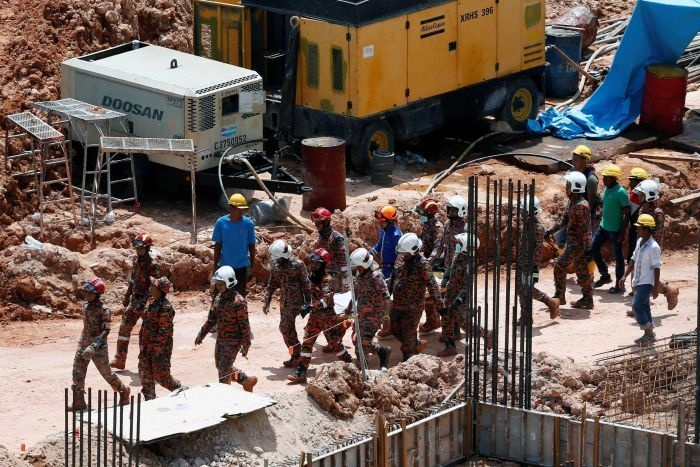red: (83, 279, 106, 303), (308, 249, 329, 274), (417, 198, 438, 221), (312, 207, 332, 231), (150, 276, 169, 298), (133, 235, 152, 256)
white: (398, 232, 424, 257), (454, 233, 480, 257), (214, 265, 235, 293), (444, 195, 467, 220), (565, 171, 586, 197), (350, 249, 372, 273), (270, 239, 291, 264), (637, 179, 658, 204), (518, 196, 540, 219)
yellow: (635, 213, 656, 237), (376, 206, 396, 229), (572, 145, 590, 169), (601, 164, 620, 186), (229, 193, 246, 216), (628, 168, 646, 187)
